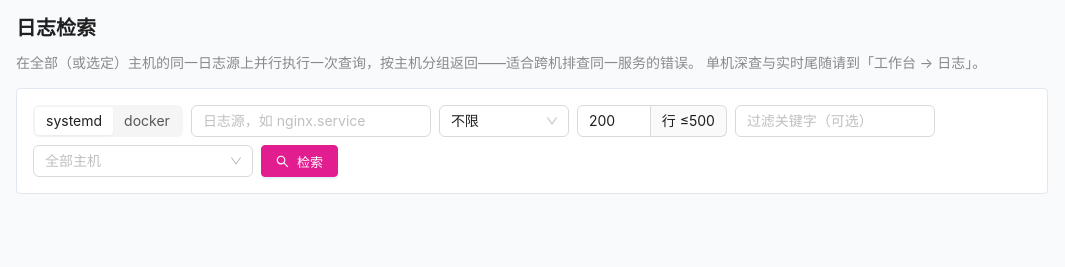
Test: LogSearch › 结果为空数组时提示无可检索主机
The width and height of the screenshot is (1065, 267).
expect the heading "日志检索" is shown: met, box [16,16,96,40]
Type "nginx.service" into the field with placeholder "日志源，如 nginx.service" at (303, 121), box [203,110,403,132]
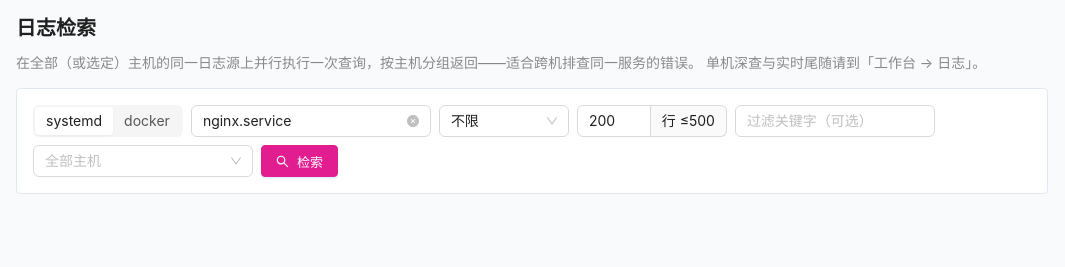
Click the button "检索" at (300, 161), box [261,145,338,177]
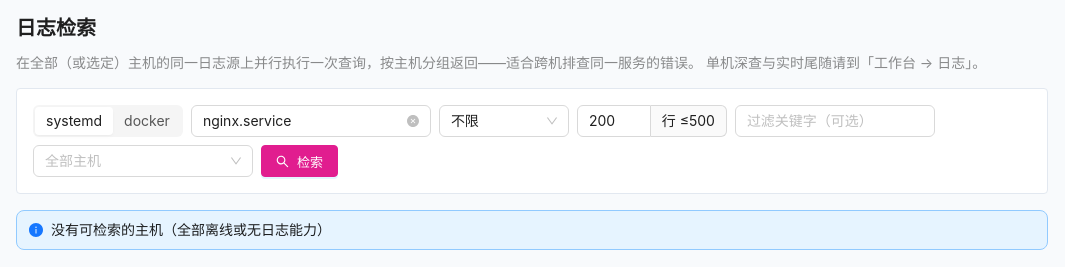
expect the text "没有可检索的主机（全部离线或无日志能力）" is shown: met, box [51,221,331,238]
